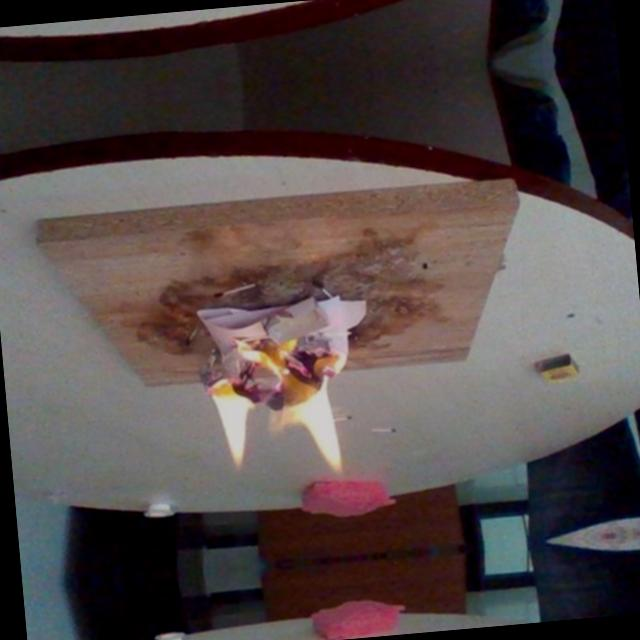fire: (162, 293, 389, 516)
